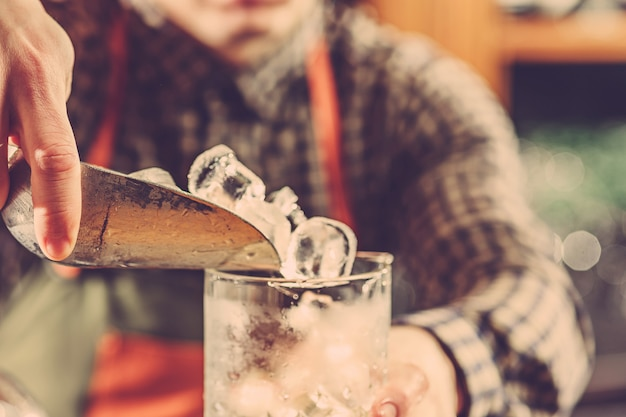alcohol: (202, 247, 392, 417)
